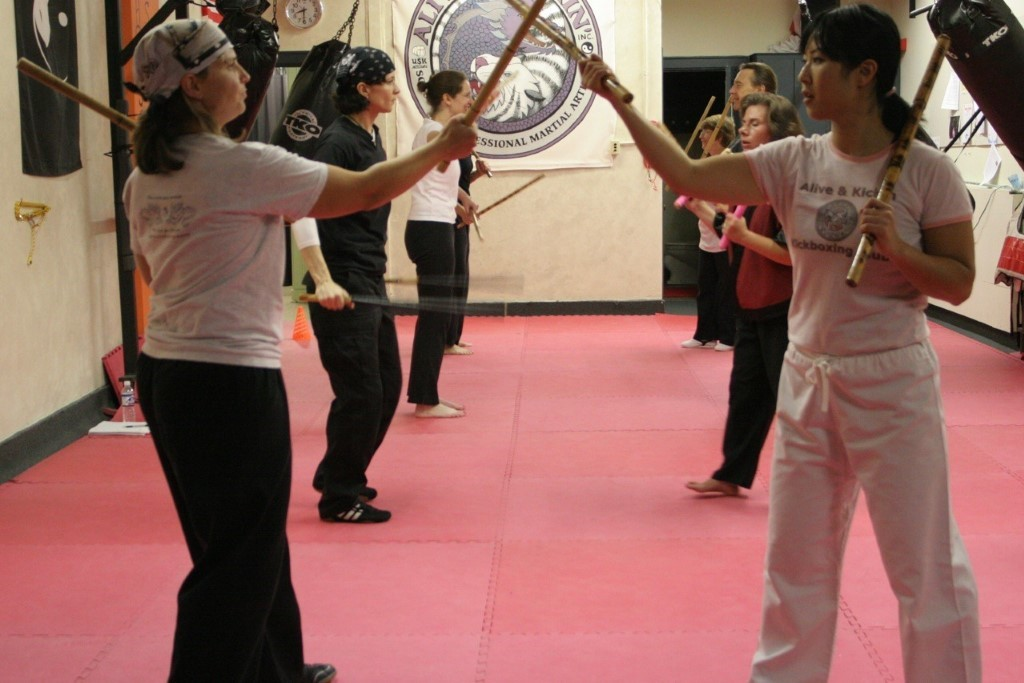baston_e: (853, 39, 944, 271), (448, 4, 533, 166), (506, 2, 628, 92), (24, 59, 134, 138), (303, 292, 474, 318), (460, 174, 540, 229), (684, 99, 712, 157), (699, 103, 727, 160), (384, 277, 501, 288), (469, 211, 483, 236)
baston_v: (840, 268, 864, 290), (12, 53, 30, 73), (434, 160, 449, 179), (937, 29, 953, 46), (619, 91, 635, 106), (670, 196, 684, 213), (716, 236, 729, 250), (297, 292, 307, 303), (709, 93, 716, 100), (479, 236, 485, 242), (486, 173, 493, 178), (540, 172, 547, 177), (456, 223, 460, 229)
